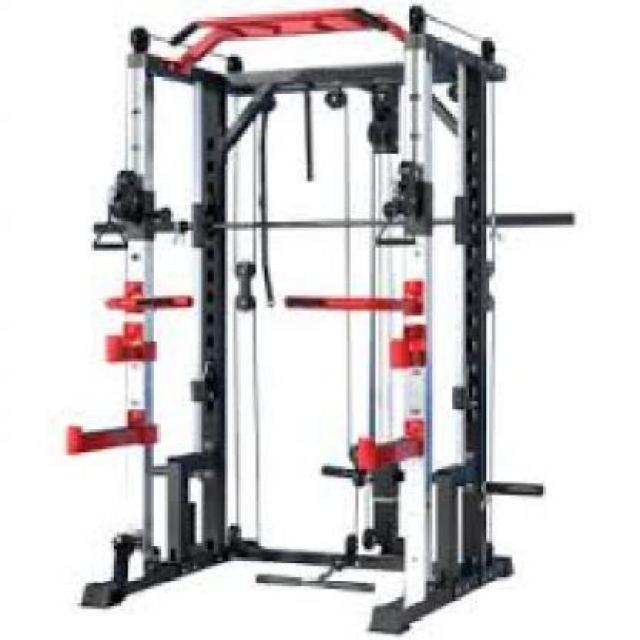smith machine: (66, 8, 545, 634)
